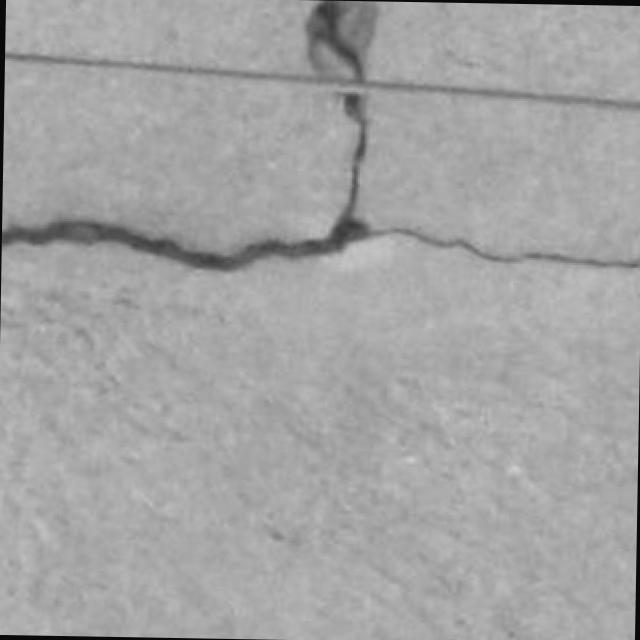crack: (2, 0, 639, 272), (2, 93, 370, 272), (367, 227, 639, 269)
